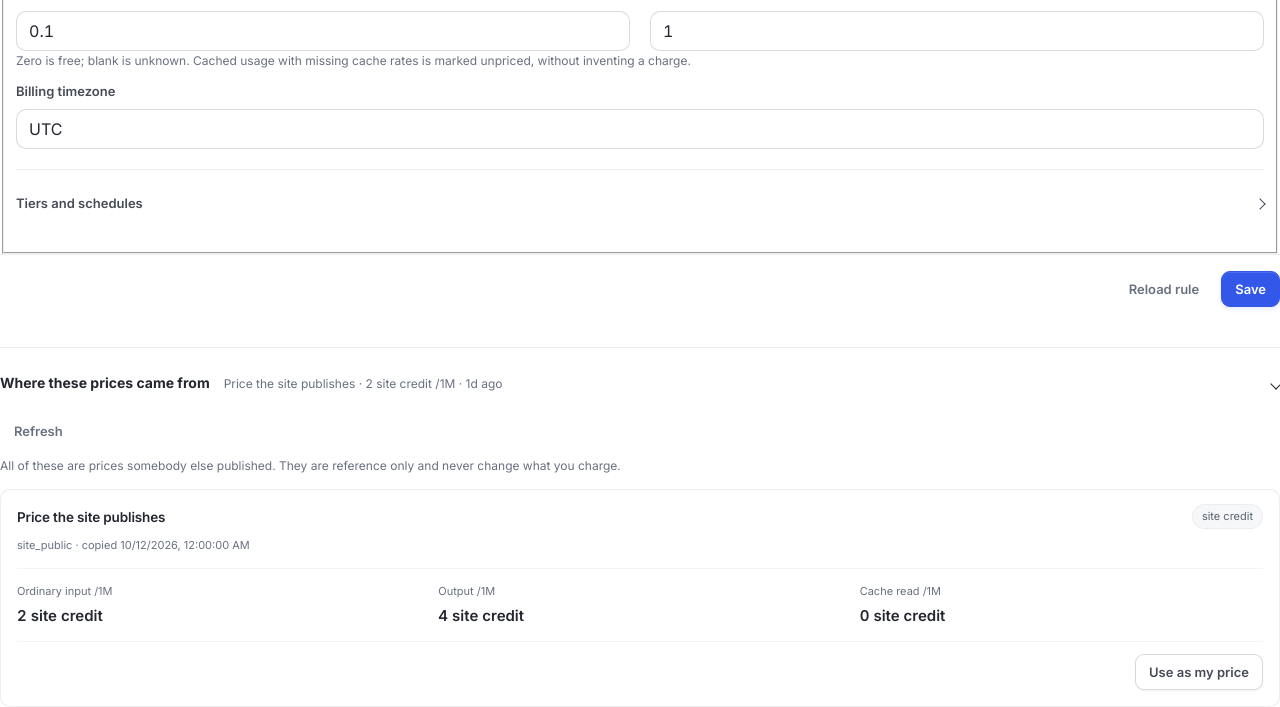
answers with the price in force and folds the sources into one line
(page scrolled)
Check: the heading that starts with "Where these prices came from" shows "Price the site publishes", box [0,374,502,391]
Check: the button "Save" is shown, box [1221,271,1279,307]
Step 1. Click the button "Use as my price" → (1199, 672), box [1135,654,1263,690]
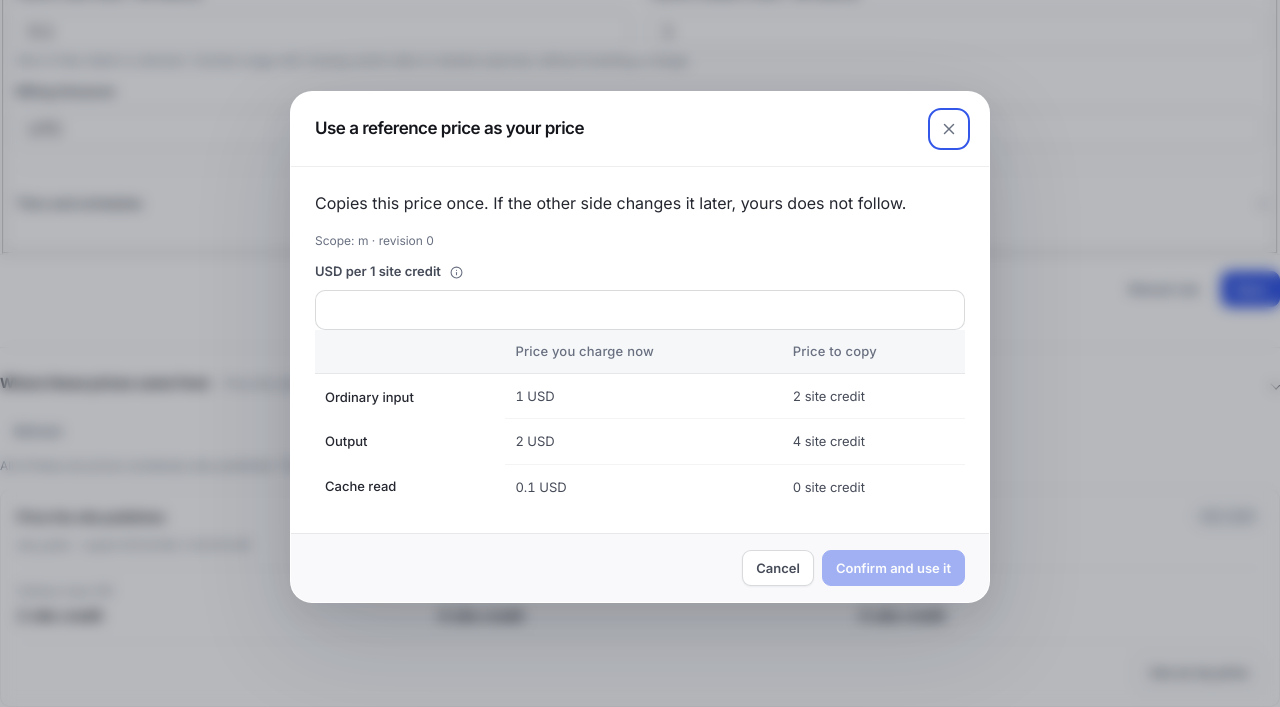
Check: the button "Confirm and use it" is shown, box [822,550,965,586]
